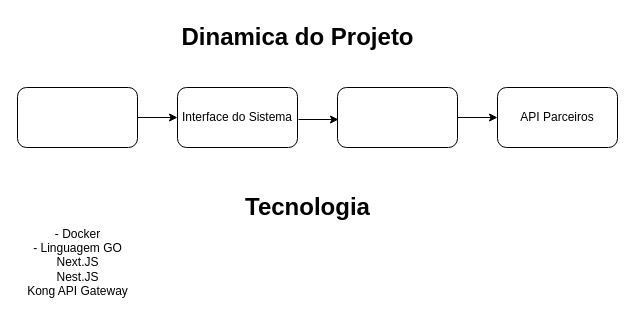
Image size: 635x324. Some labels were removed from this diagram. The centre of each missing label's shape, as x and y in pixels:
API Gateway: point (77, 117)
Sistema de gerenciamento de Eventos: point (397, 117)
